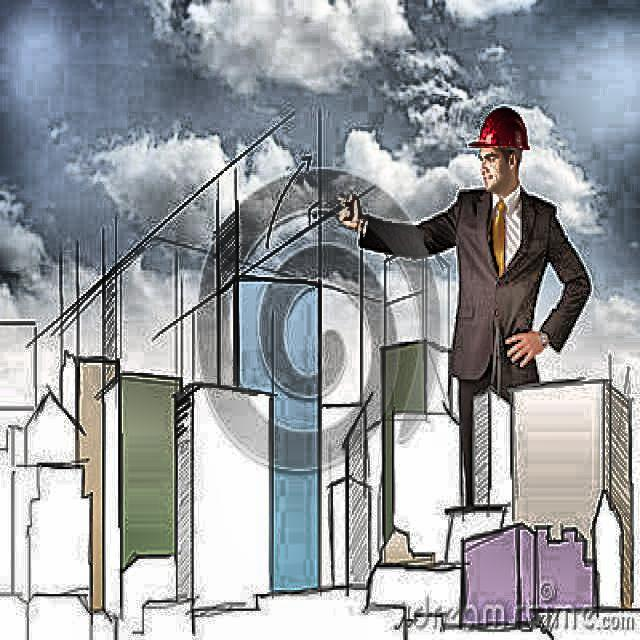person: (440, 156, 590, 374)
